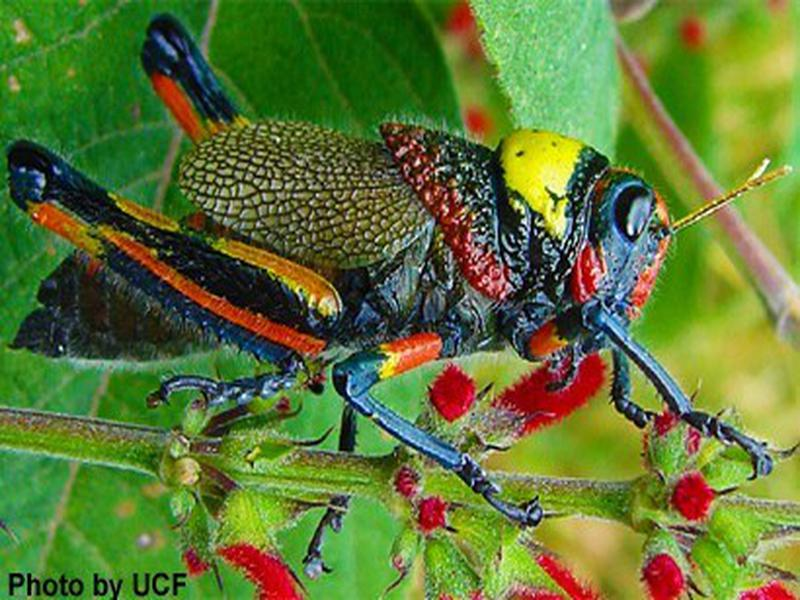Grasshopper: (142, 103, 714, 415)
